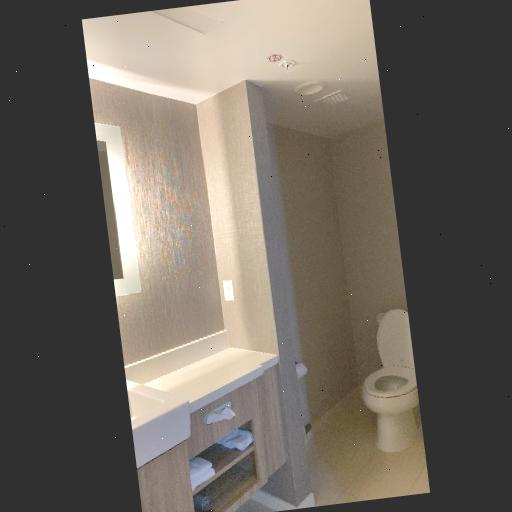clean_sink: (122, 329, 271, 466)
clean_toilet: (348, 309, 428, 461)
